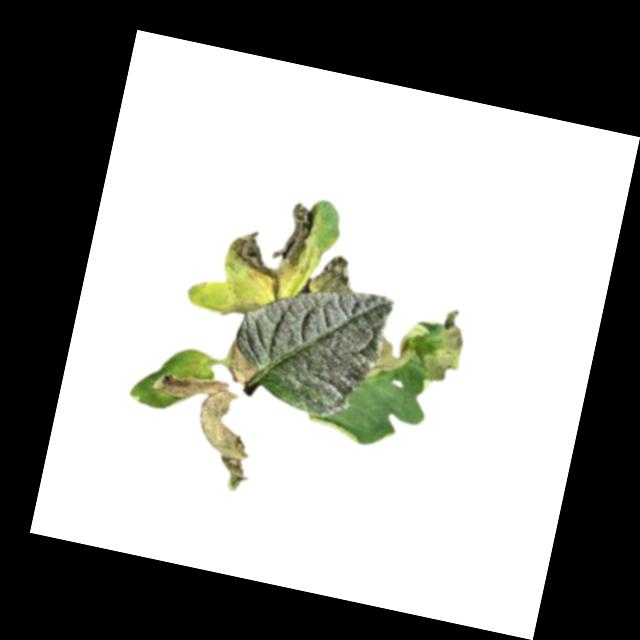Late_blight: (133, 365, 265, 495), (216, 185, 325, 293), (409, 302, 471, 397), (367, 315, 424, 388), (308, 248, 360, 300), (204, 284, 262, 323), (224, 339, 263, 387)
